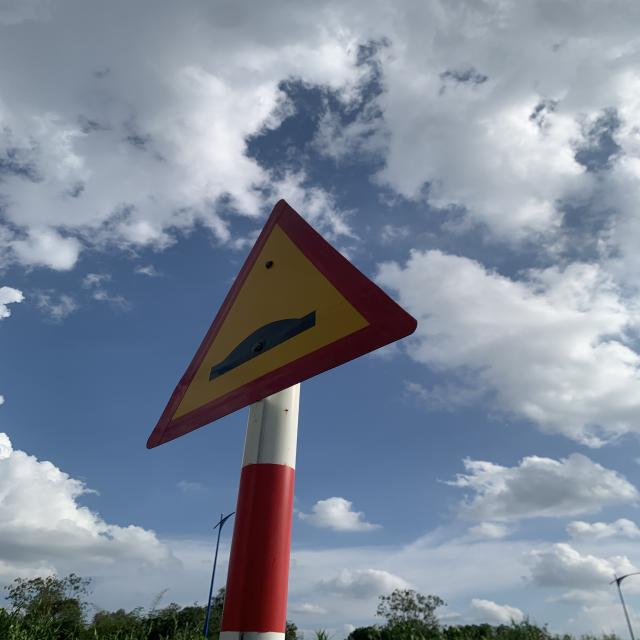Duong_Cong_Ben_Phai: (143, 196, 420, 452)
